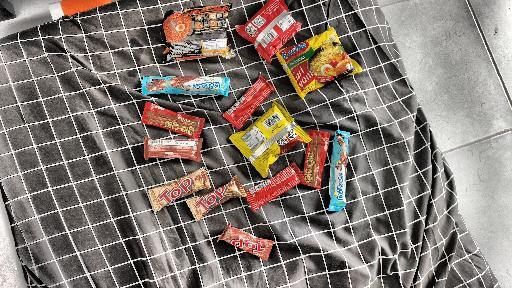dilan: (133, 73, 239, 104), (330, 118, 363, 216)
indomie: (281, 33, 357, 100)
top: (106, 171, 285, 265)
